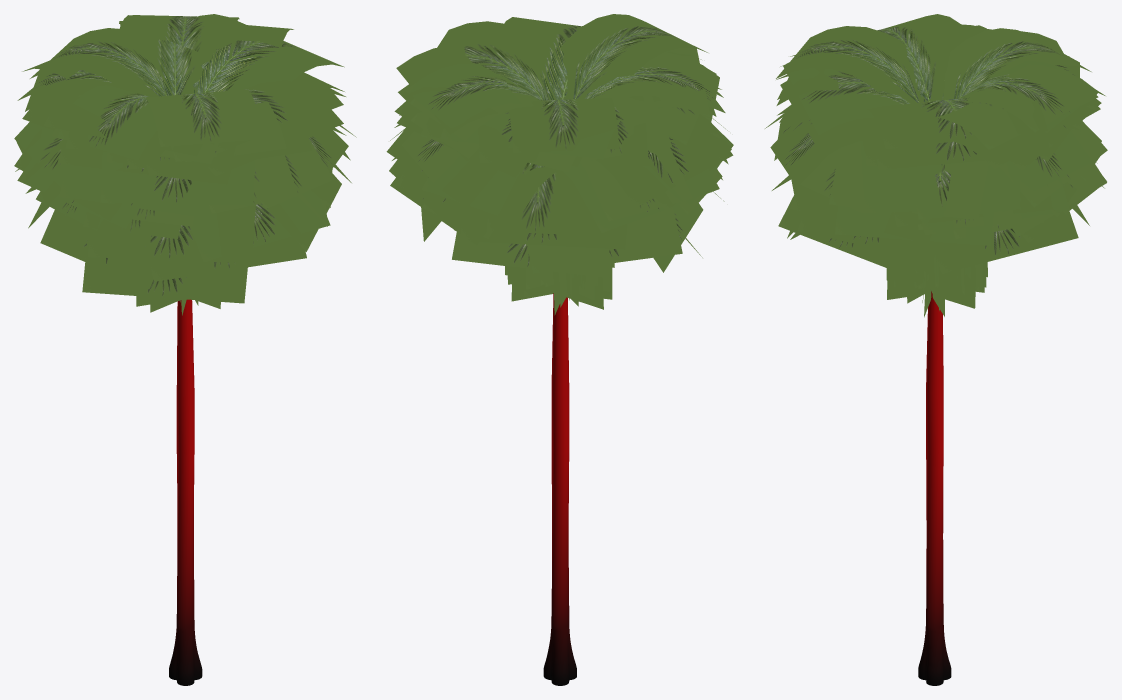
Rendered from Palm_1_6.fbx.
3 renders of one model, left to right at view 1: azimuth 30°, elevation 25°; view 2: azimuth 150°, elevation 25°; view 3: azimuth 270°, elevation 25°, orthographic.
Parts seen in each view (by area): view 1: Palm_1_6; view 2: Palm_1_6; view 3: Palm_1_6.
Boxes of the visible parts, <box> form: Palm_1_6: <box>14,14,356,685</box>; Palm_1_6: <box>386,14,733,685</box>; Palm_1_6: <box>765,14,1107,685</box>.
Bounding box in the file's own units: 1753 × 3519 × 1782.
